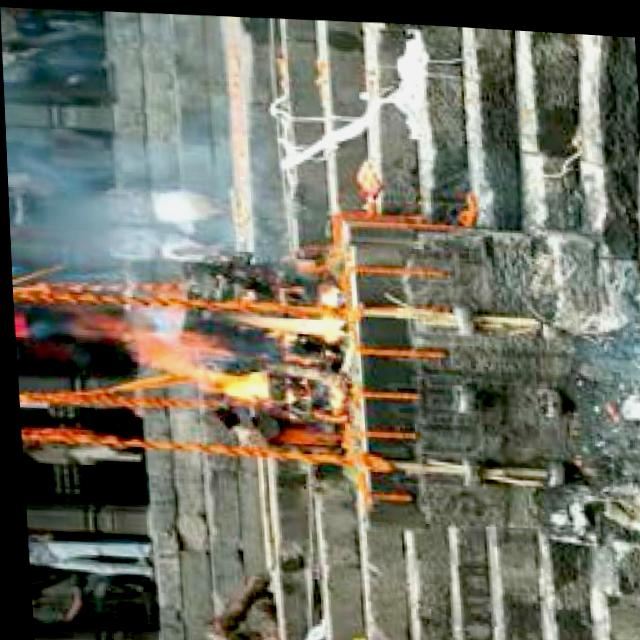helmet: (90, 286, 347, 408)
